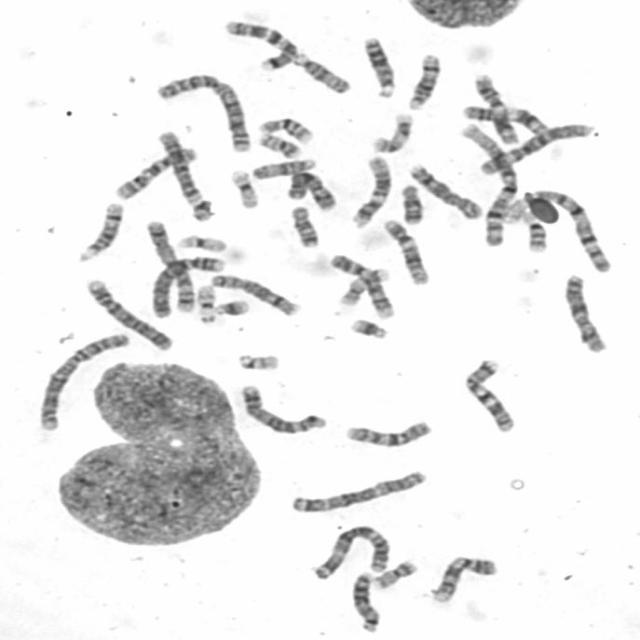A1: (500, 186, 614, 274), (456, 120, 518, 248)
A2: (34, 329, 130, 432), (152, 72, 254, 154)
A3: (286, 467, 429, 514), (308, 521, 392, 581)
B4: (83, 276, 174, 352), (147, 252, 228, 318)
B5: (142, 218, 195, 315), (238, 382, 330, 436)
C10: (111, 143, 199, 201), (339, 416, 434, 449)
C11: (470, 71, 520, 146), (458, 102, 550, 135)
C12: (380, 217, 430, 286), (348, 154, 394, 229)
C6: (475, 120, 594, 177), (156, 129, 214, 222)
C7: (460, 357, 517, 433), (221, 18, 298, 72)
C8: (406, 160, 484, 221), (207, 271, 302, 317)
C9: (326, 251, 395, 320), (426, 551, 499, 605)
D13: (360, 32, 397, 100), (348, 569, 381, 634)
D14: (74, 199, 125, 263), (404, 51, 444, 111)
D15: (289, 50, 352, 95), (248, 155, 320, 180)
E16: (254, 114, 316, 145), (519, 207, 548, 253)
E17: (367, 110, 416, 155), (336, 266, 388, 308)
E18: (287, 204, 322, 249), (398, 182, 426, 226)
F19: (227, 167, 262, 210), (174, 232, 228, 254)
F20: (370, 557, 419, 590), (253, 130, 303, 159)
G21: (346, 316, 391, 340), (210, 297, 250, 318)
G22: (193, 281, 219, 324), (232, 350, 281, 372)
X: (560, 272, 610, 354), (284, 167, 339, 212)
